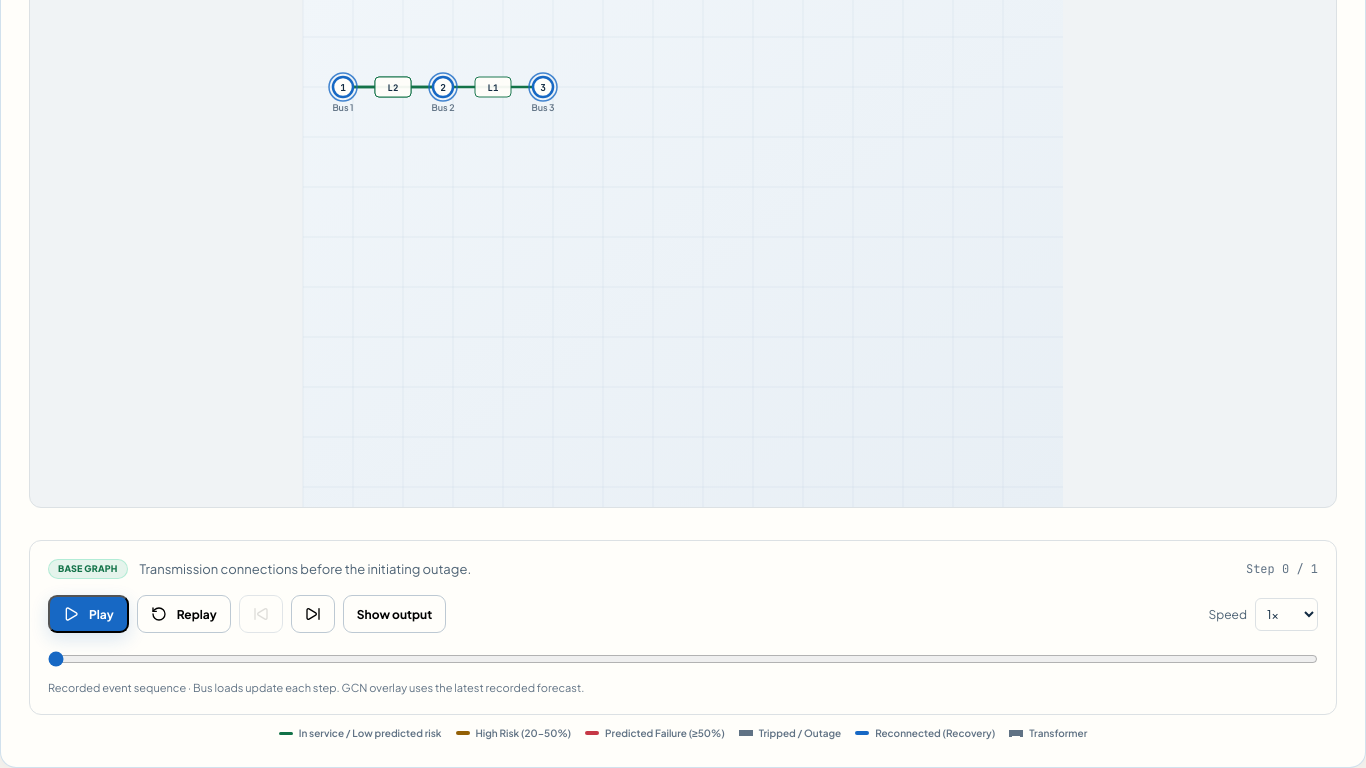
Test: a snapshot without an audit log does not invent intermediate failures or recovery
This screenshot has width=1366, height=768.
(page scrolled)
What coordinates should you click on to do the following:
click the button "Show output"
I would click on:
 (394, 614)
Its box is [343,595,446,633].
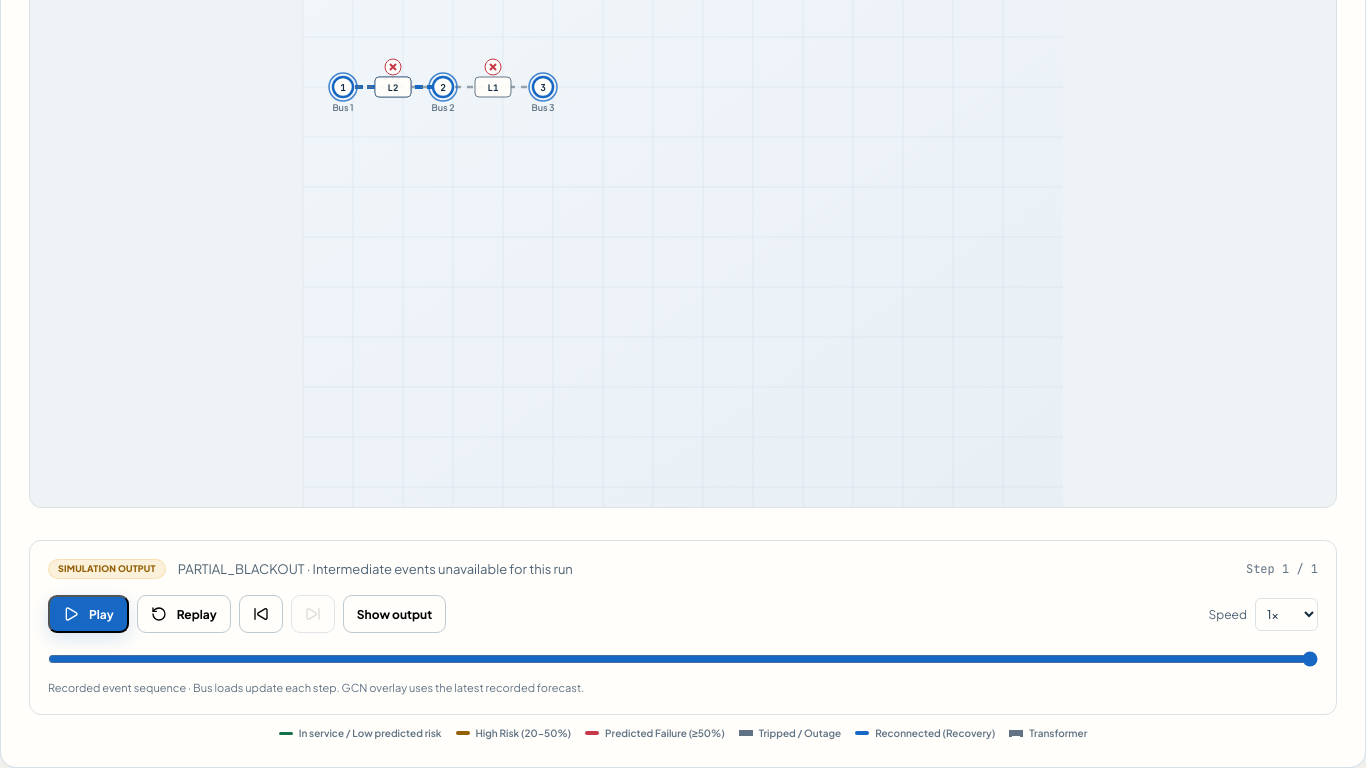
Check: the text "Intermediate events unavailable" is shown, box [178,561,573,577]
